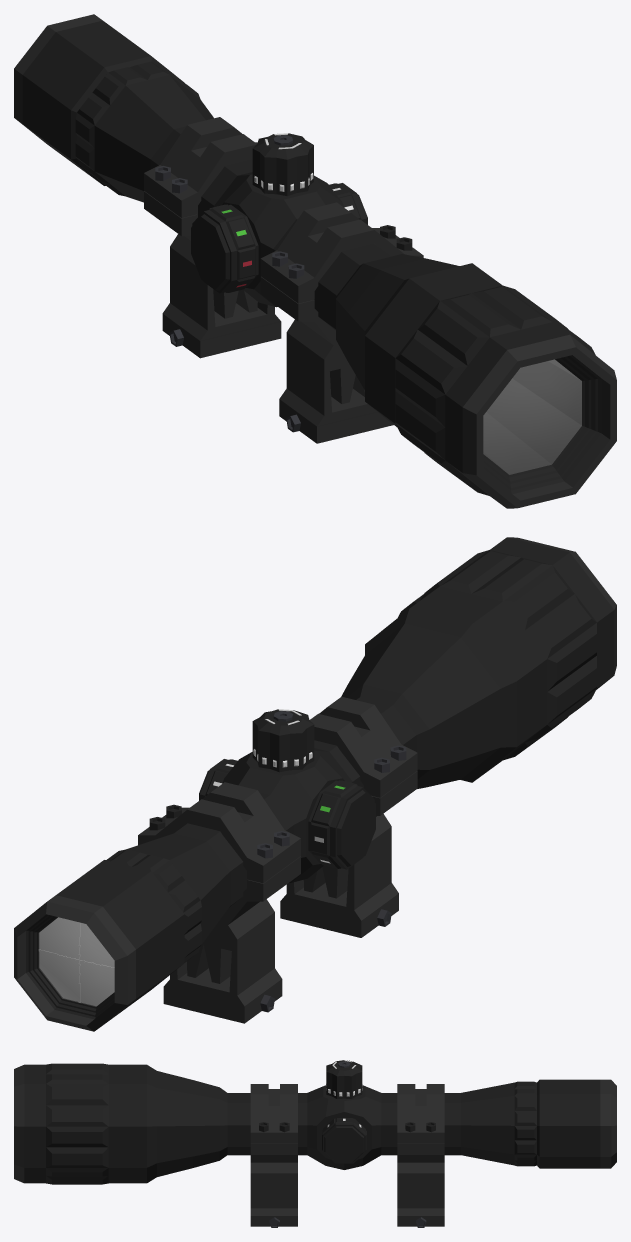
The model's file is scope_c.fbx.
3 renders of one model, top to bottom at view 1: azimuth 30°, elevation 25°; view 2: azimuth 150°, elevation 25°; view 3: azimuth 270°, elevation 25°, orthographic. The views are drawn at different scales.
Visible parts, largest first — view 1: scope_c, glass; view 2: scope_c, glass, cam; view 3: scope_c.
Boxes of the visible parts, bbox=[...] form: scope_c: bbox=[14, 14, 616, 508]; glass: bbox=[483, 359, 581, 474]; scope_c: bbox=[14, 537, 616, 1031]; glass: bbox=[39, 917, 114, 1006]; cam: bbox=[39, 917, 114, 1006]; scope_c: bbox=[14, 1060, 616, 1227].
Bounding box in the file's own units: 3.5 × 4.98 × 18.06.
Materials: 2 (1 with a texture image).
